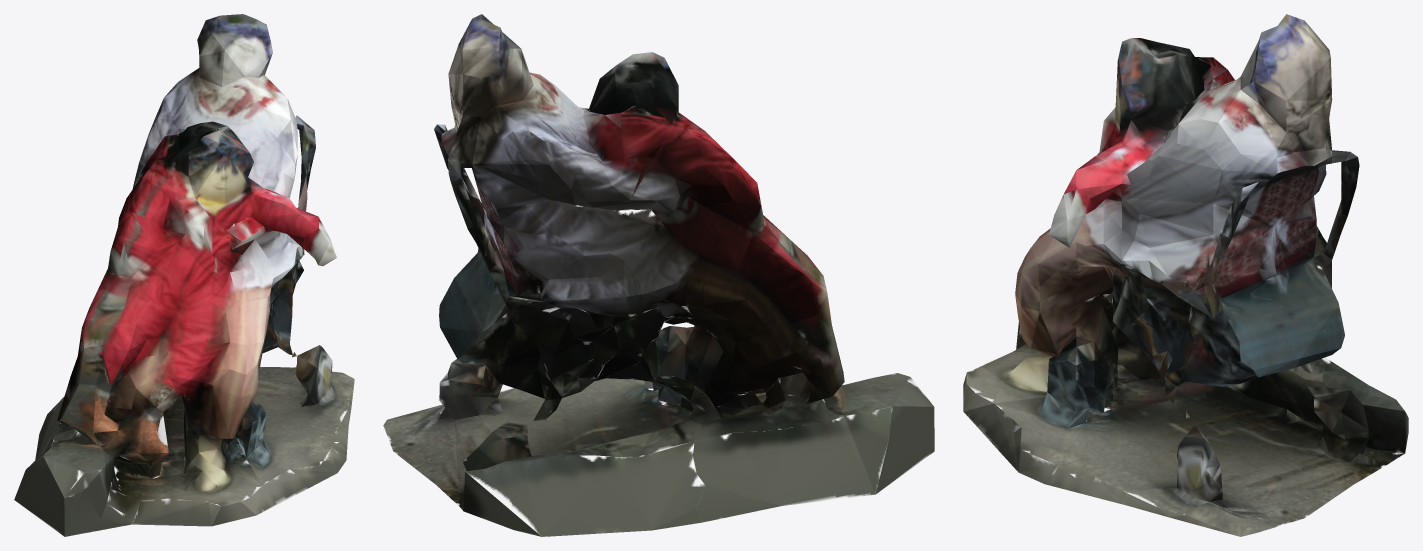
The model's file is kakashi_13b.fbx.
3 views of the same model, side by side, from view 1: azimuth 30°, elevation 25°; view 2: azimuth 150°, elevation 25°; view 3: azimuth 270°, elevation 25° (orthographic). The views are drawn at different scales.
Parts seen in each view (by area): view 1: MeshS; view 2: MeshS; view 3: MeshS.
Boxes of the visible parts, left/top/right/bottom form: MeshS: left=14, top=14, right=354, bottom=536; MeshS: left=383, top=14, right=934, bottom=536; MeshS: left=963, top=14, right=1408, bottom=536.
Size of the model in its own units: 22.78 by 21.68 by 19.24.
Materials: 1 (1 with a texture image).
